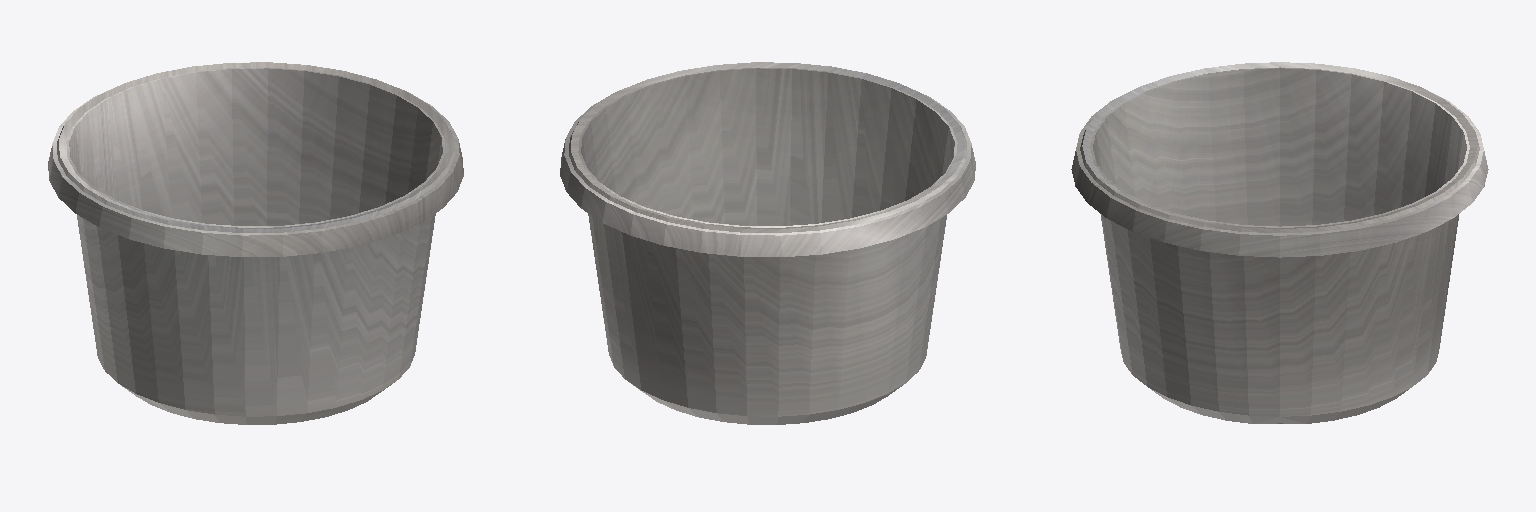
3 views of the same model, side by side, from view 1: azimuth 30°, elevation 25°; view 2: azimuth 150°, elevation 25°; view 3: azimuth 270°, elevation 25° (orthographic).
Parts seen in each view (by area): view 1: Tray:Tray; view 2: Tray:Tray; view 3: Tray:Tray.
Part boxes in pixels (x1,y1,x2,y2): Tray:Tray: (48,62,463,424); Tray:Tray: (560,62,975,424); Tray:Tray: (1071,62,1488,423).
Bounding box in the file's own units: 0.1397 × 0.0816 × 0.1397.
1 materials, 1 textured.